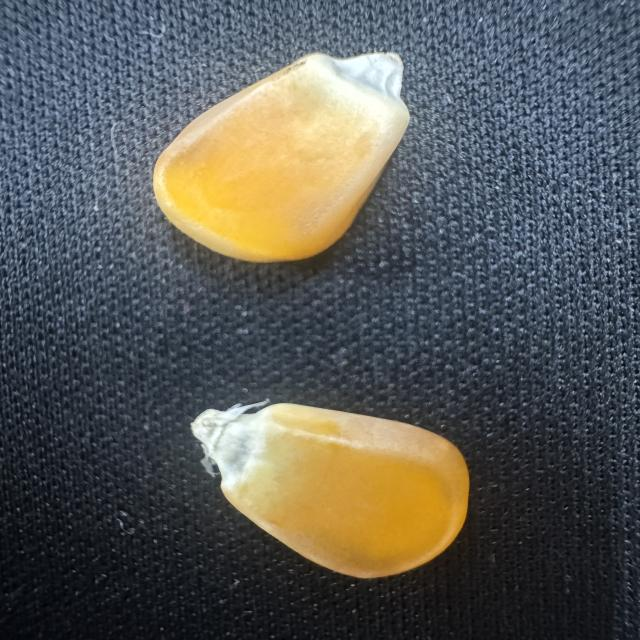Good-Seed: (138, 40, 429, 276), (182, 391, 483, 587)
